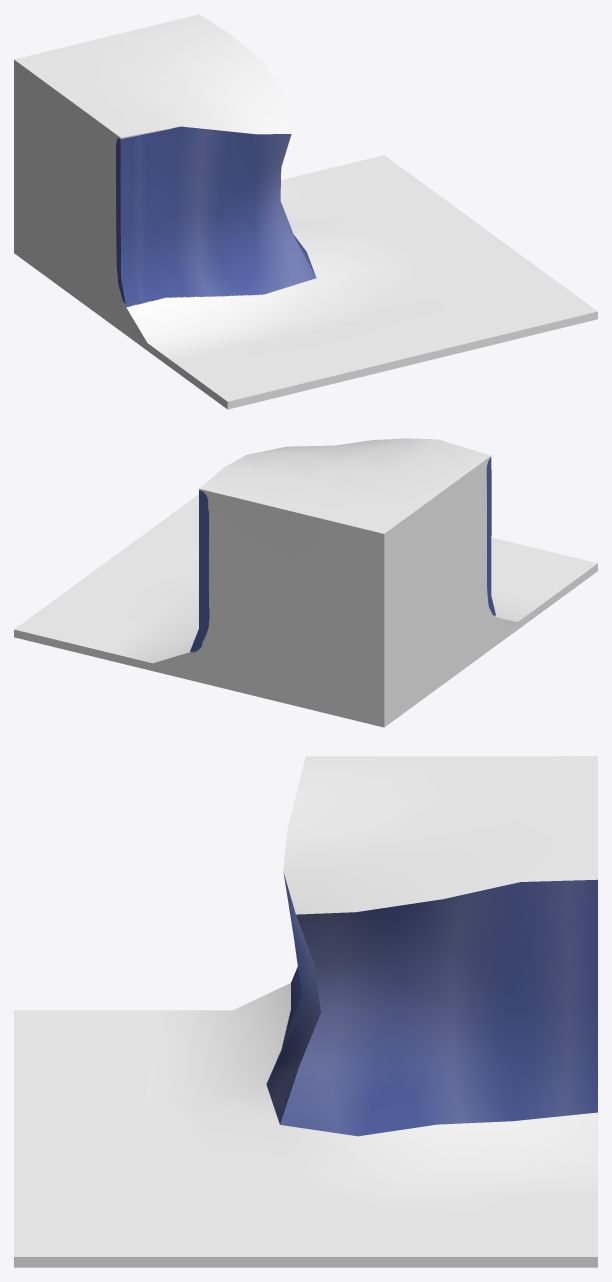
File: wall_concave_1.glb
3 views of the same model, one above another, from view 1: azimuth 30°, elevation 25°; view 2: azimuth 150°, elevation 25°; view 3: azimuth 270°, elevation 25° (orthographic). The views are drawn at different scales.
Visible parts, largest first — view 1: wall_concave_1.001; view 2: wall_concave_1.001; view 3: wall_concave_1.001.
Part boxes in pixels (bbox=[...]): wall_concave_1.001: bbox=[14, 14, 597, 409]; wall_concave_1.001: bbox=[14, 438, 597, 727]; wall_concave_1.001: bbox=[14, 756, 597, 1267].
Size of the model in its own units: 2 by 0.9995 by 2.
1 material, 1 textured.
